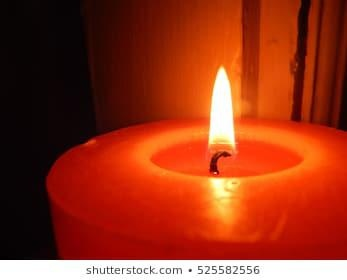fire: (207, 62, 236, 152)
